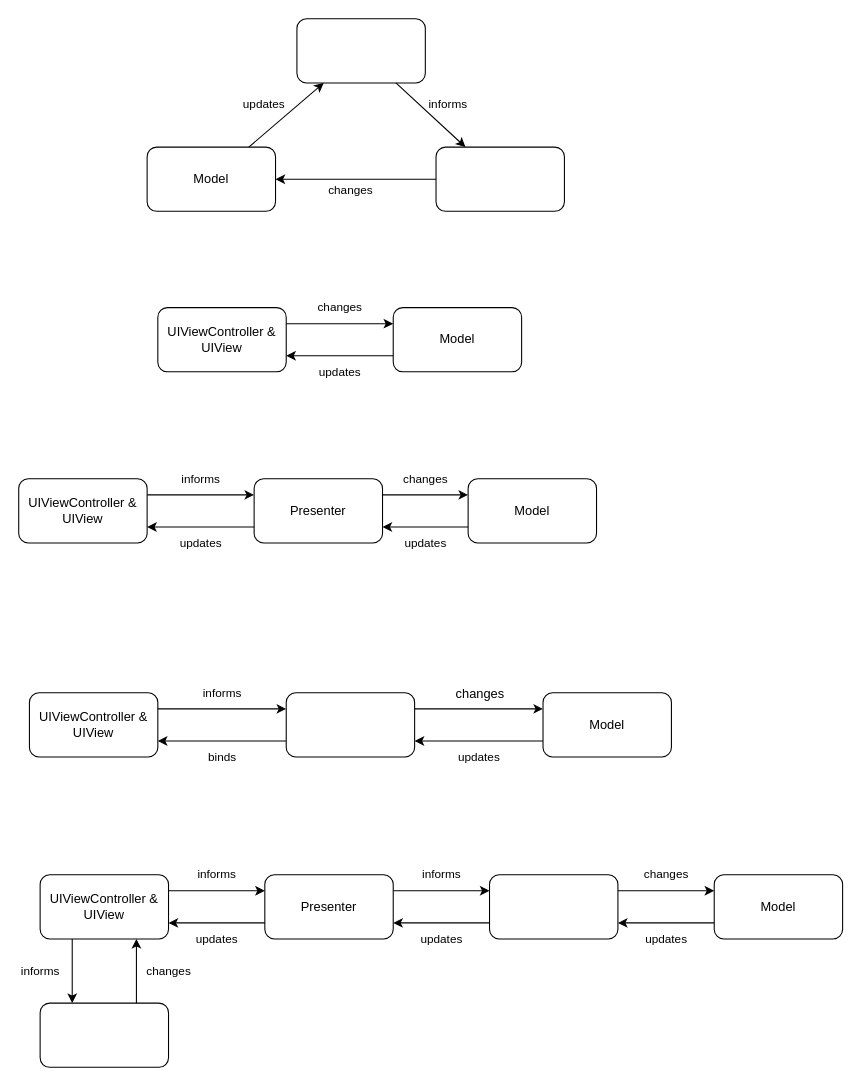
The diagram is 861 pixels wide and 1086 high, and some of its shapes have lost their labels. The centre of each missing label's shape, as x and y in pixels:
Controller: the point at 499,178
Interactor: the point at 553,906
Router: the point at 104,1034
View: the point at 360,50
ViewModel: the point at 350,724
